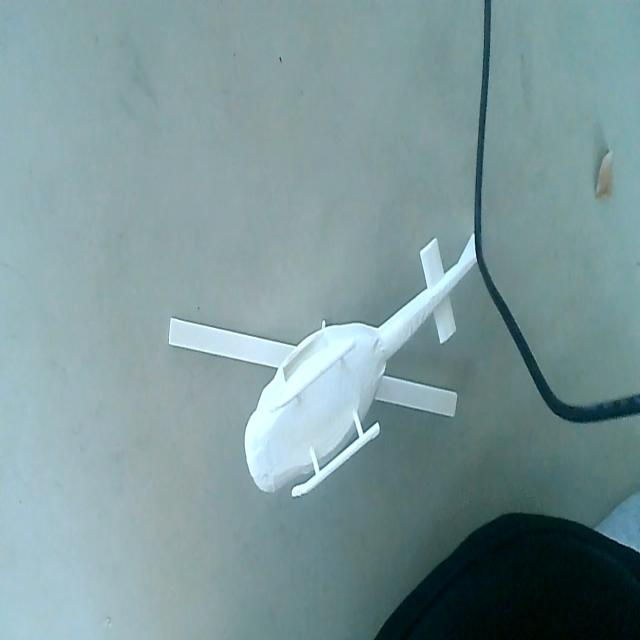Helicopter: (166, 230, 478, 498)
